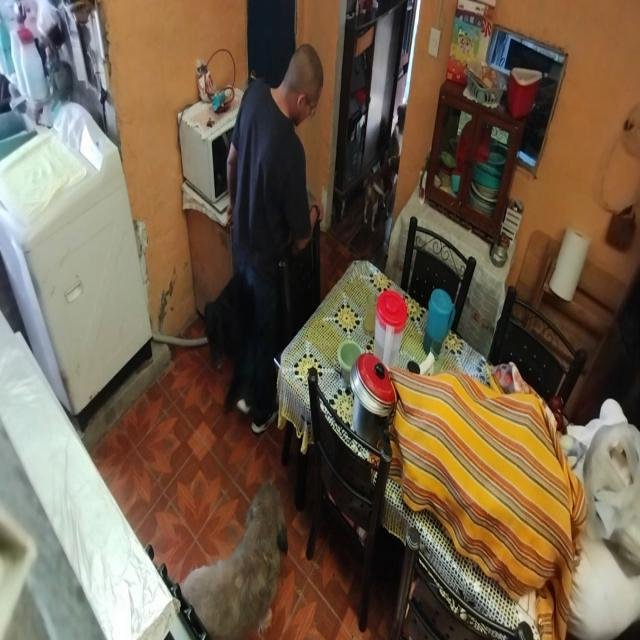adult: (226, 38, 330, 438)
